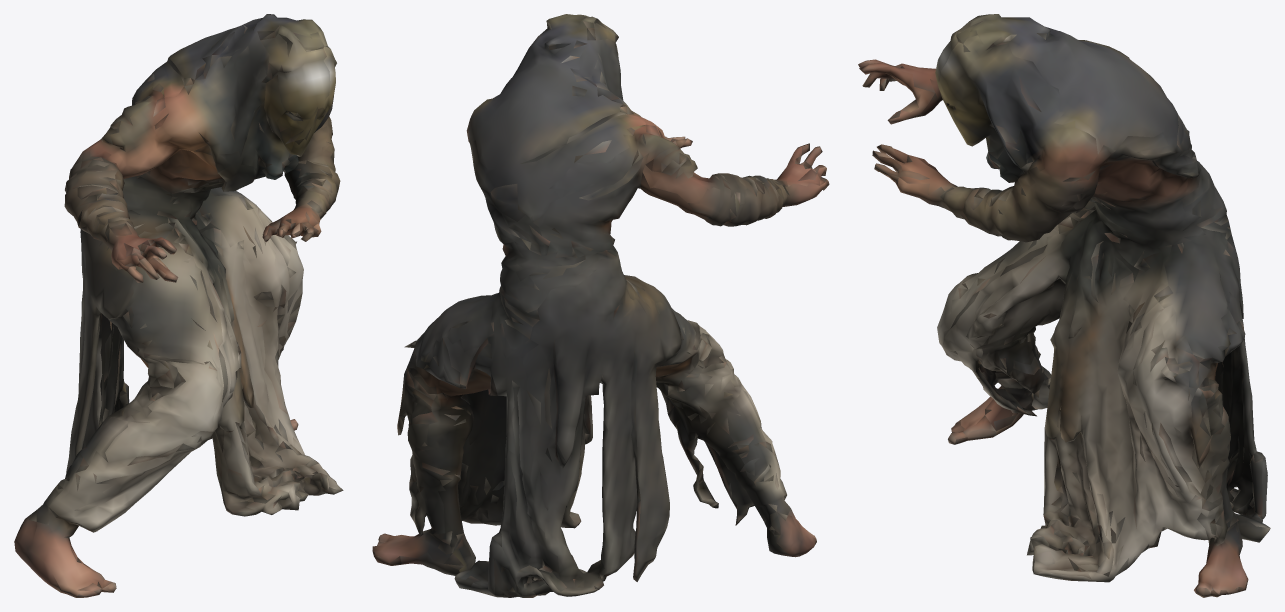
The model's file is Disciple of the Forgotten Pharoah_final.glb.
3 renders of one model, left to right at view 1: azimuth 30°, elevation 25°; view 2: azimuth 150°, elevation 25°; view 3: azimuth 270°, elevation 25°, orthographic. The views are drawn at different scales.
Visible parts, largest first — view 1: Mesh1.0; view 2: Mesh1.0; view 3: Mesh1.0.
Boxes of the visible parts, left/top/right/bottom form: Mesh1.0: left=14, top=14, right=343, bottom=597; Mesh1.0: left=372, top=14, right=829, bottom=597; Mesh1.0: left=858, top=14, right=1270, bottom=597.
Size of the model in its own units: 1.34 by 1.8 by 1.27.
1 material, 1 textured.
